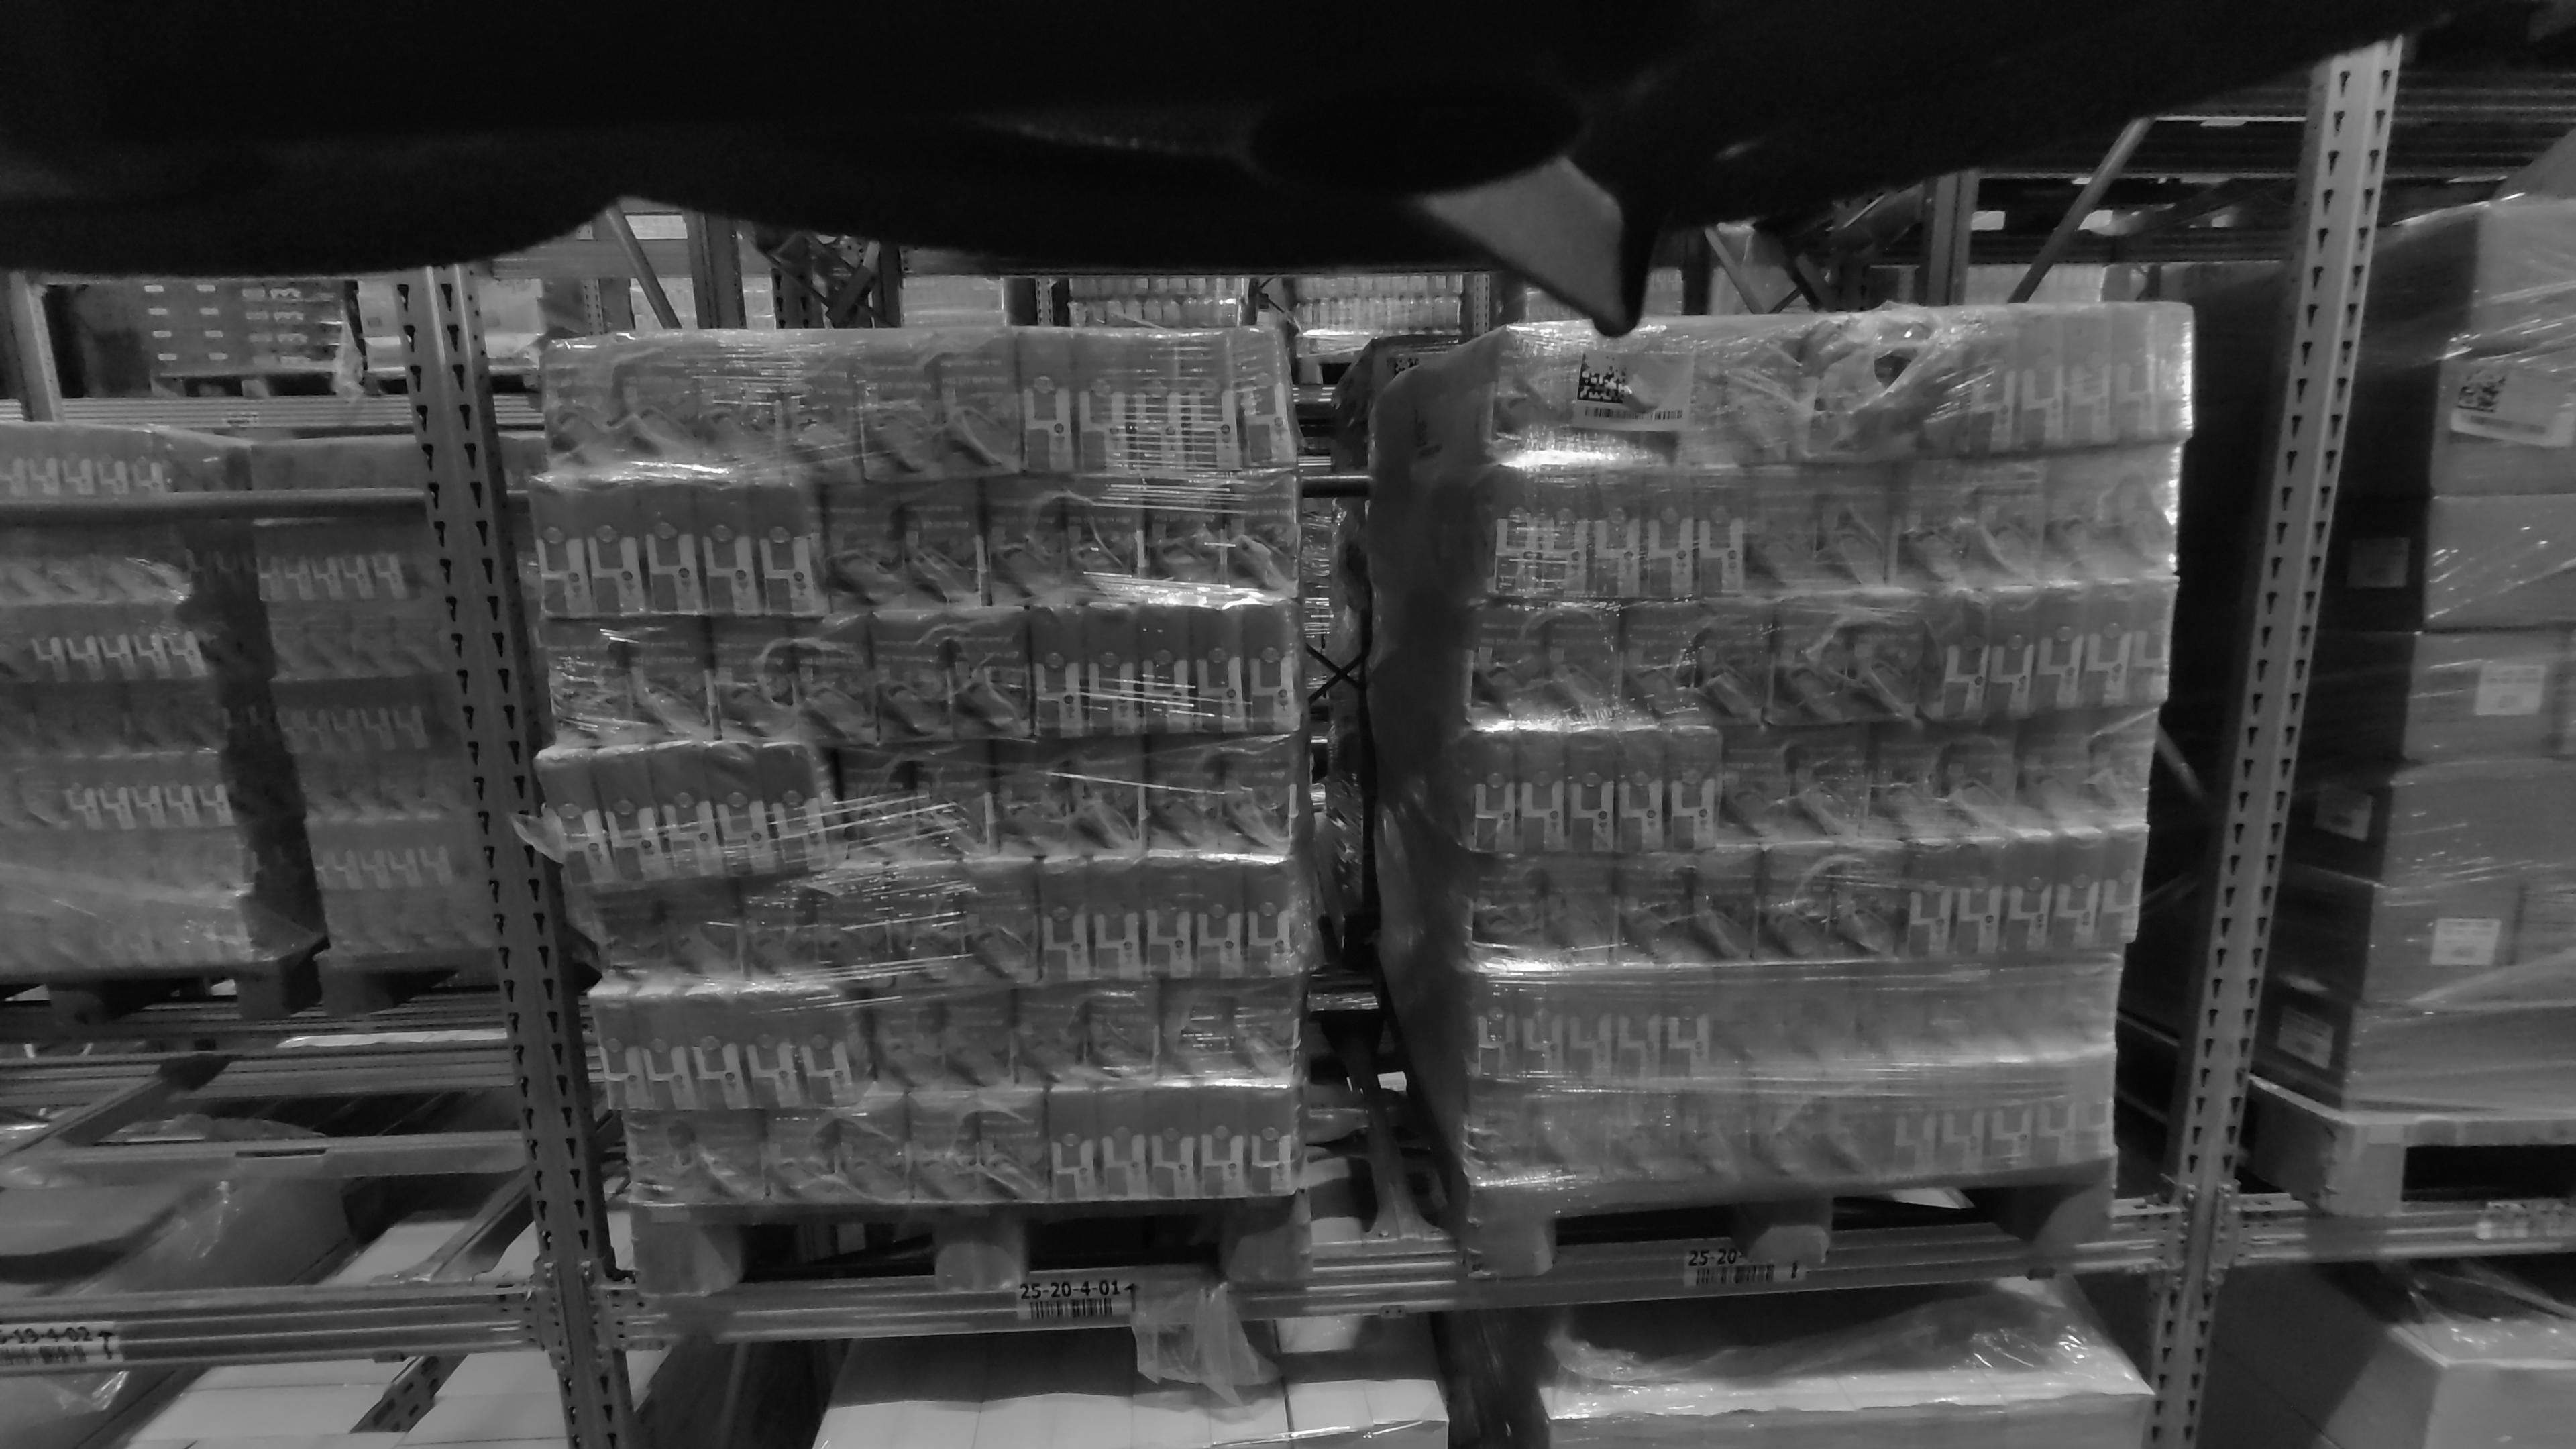empty-shelf: (0, 290, 521, 1277)
